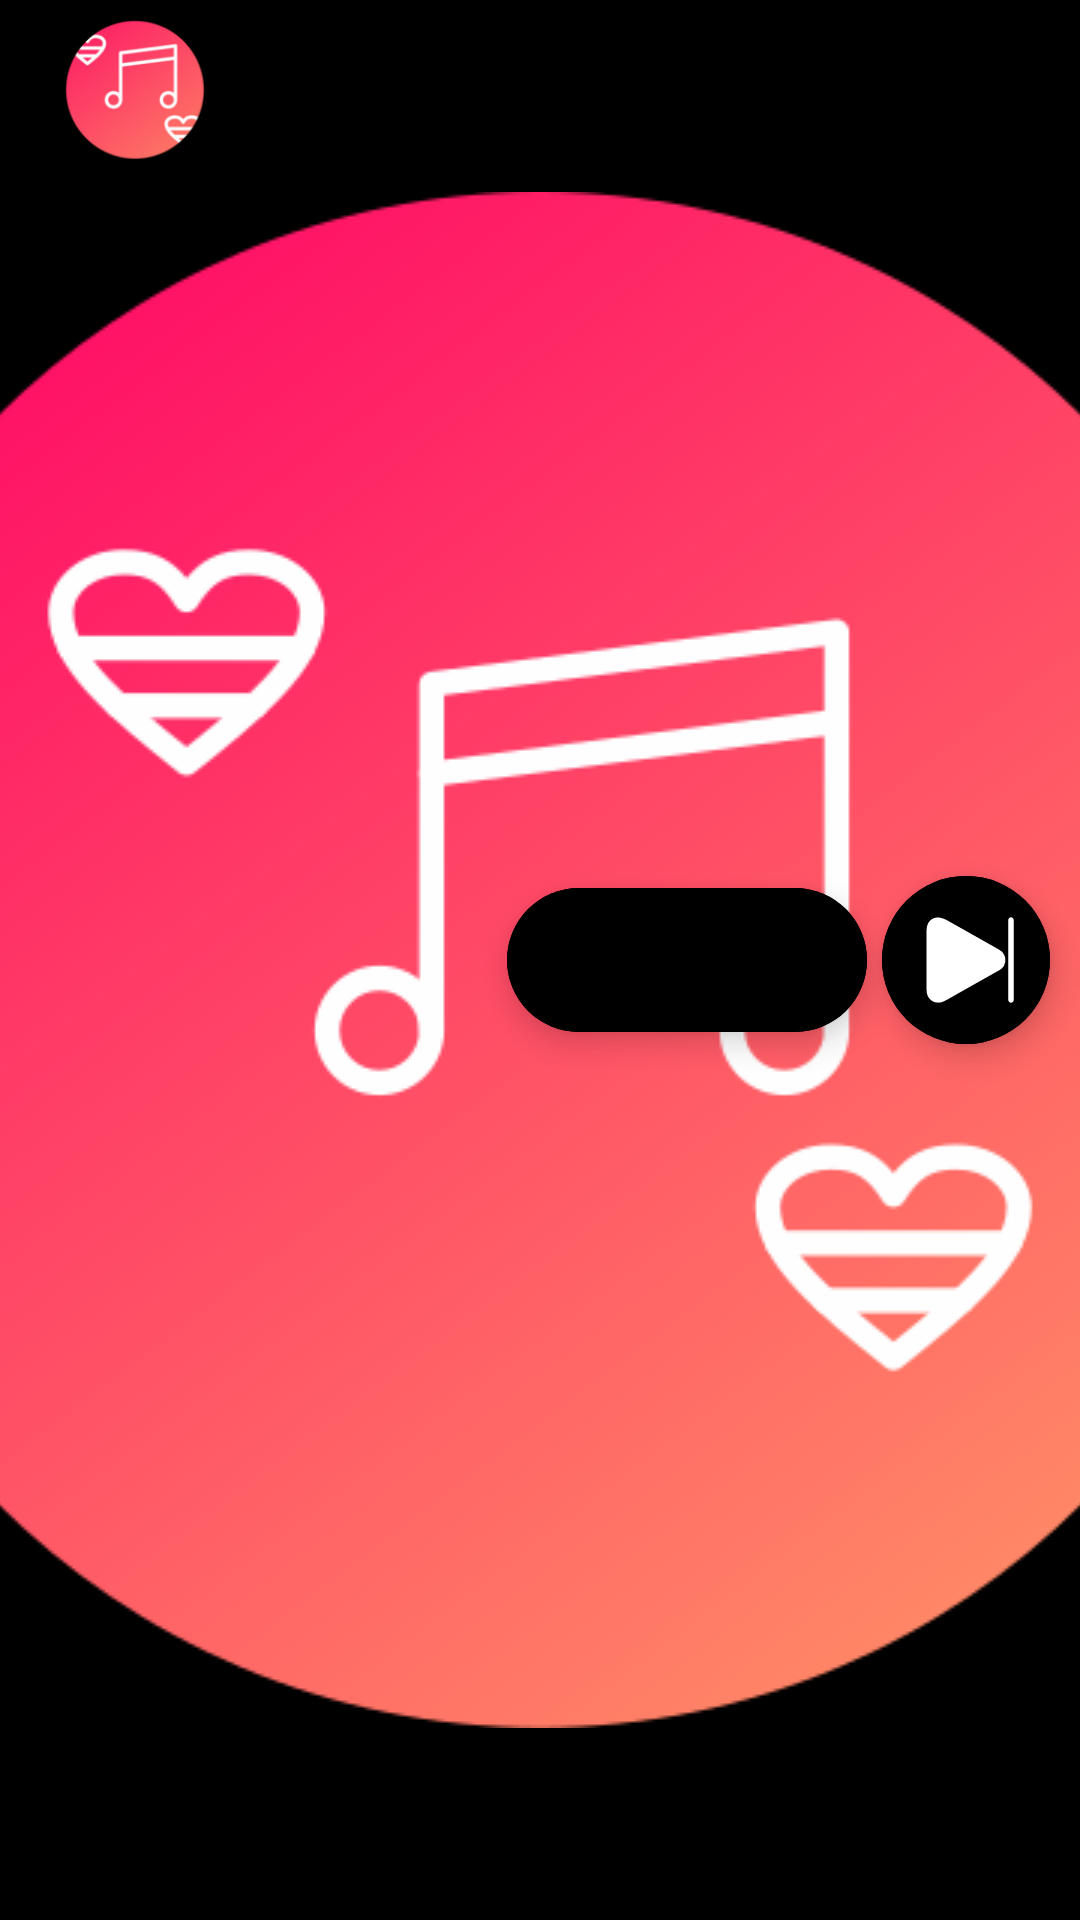

Locate icon controls on the screen. Image size 1080*1920, boxes as (x1, y1, x2, y2).
music player round: (65, 20, 204, 159)
next: (882, 876, 1050, 1044)
